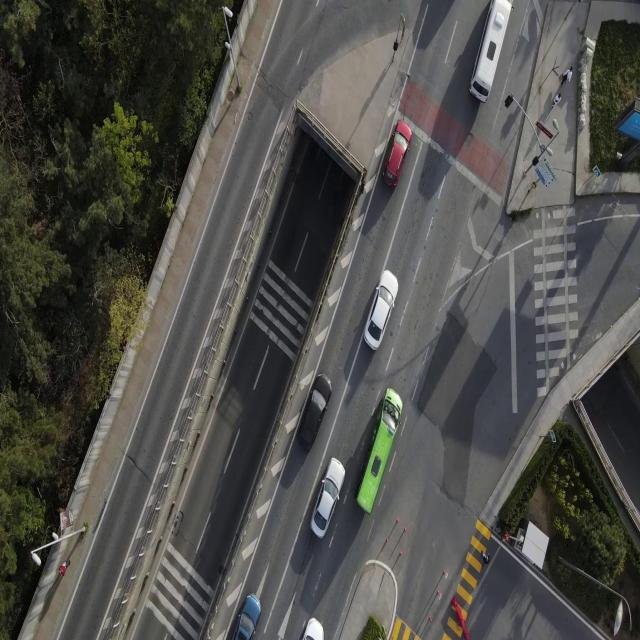p3rson: (560, 66, 572, 87), (59, 560, 70, 576), (481, 550, 490, 568), (551, 93, 561, 109)
